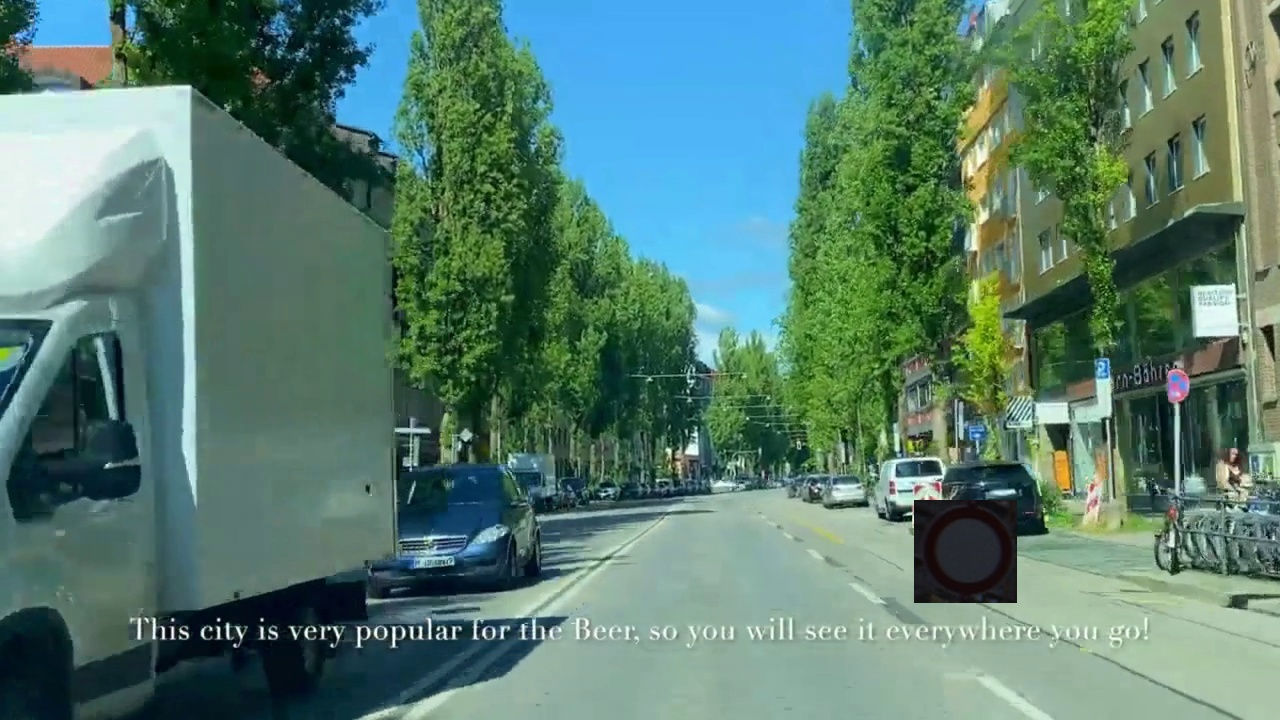No vehicles: (914, 500, 1017, 603)
